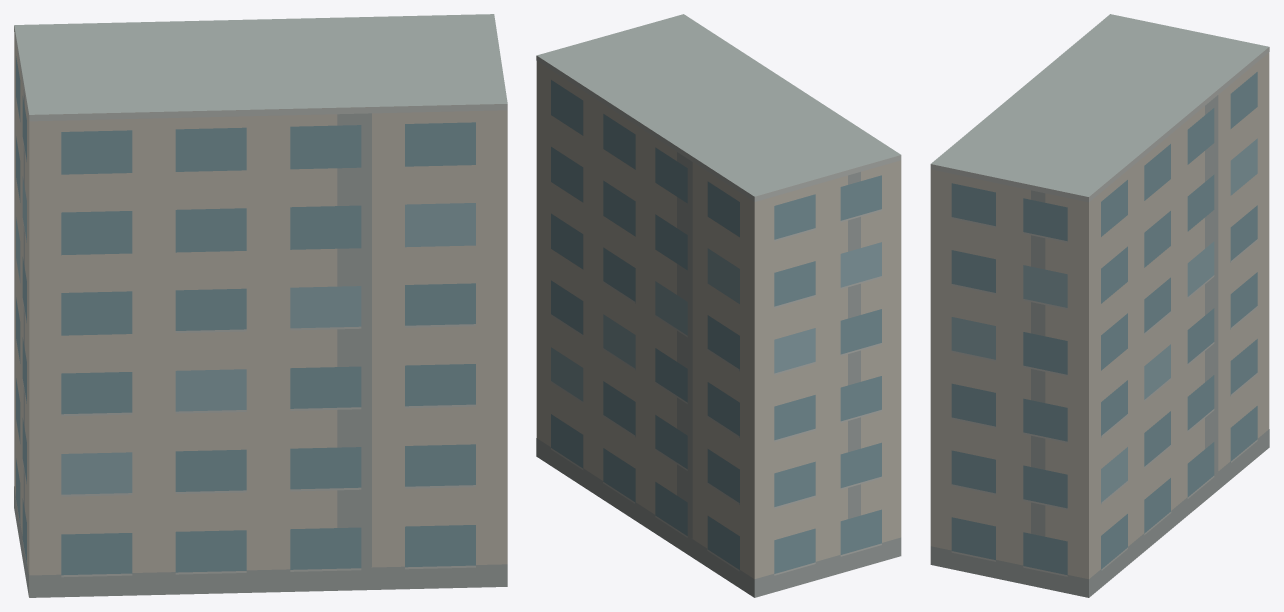
File: survey-upis-32884386.glb
The picture shows the model from 3 angles, left to right: view 1: azimuth 30°, elevation 25°; view 2: azimuth 150°, elevation 25°; view 3: azimuth 270°, elevation 25°; orthographic projection. The views are drawn at different scales.
Visible parts, largest first — view 1: survey-upis-32884386.tmp; view 2: survey-upis-32884386.tmp; view 3: survey-upis-32884386.tmp.
Part boxes in pixels (x1,y1,x2,y2): survey-upis-32884386.tmp: [14, 14, 507, 597]; survey-upis-32884386.tmp: [536, 14, 901, 597]; survey-upis-32884386.tmp: [930, 14, 1269, 597].
Bounding box in the file's own units: 17.94 × 18.3 × 14.03.
